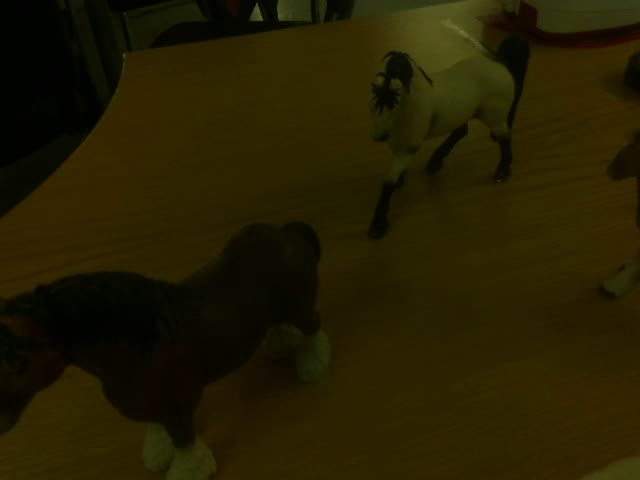toy: (1, 214, 330, 476), (364, 31, 527, 240)
